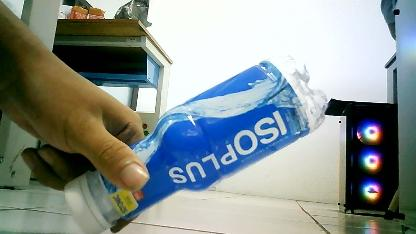Plastic Bottle: (63, 55, 328, 234)
